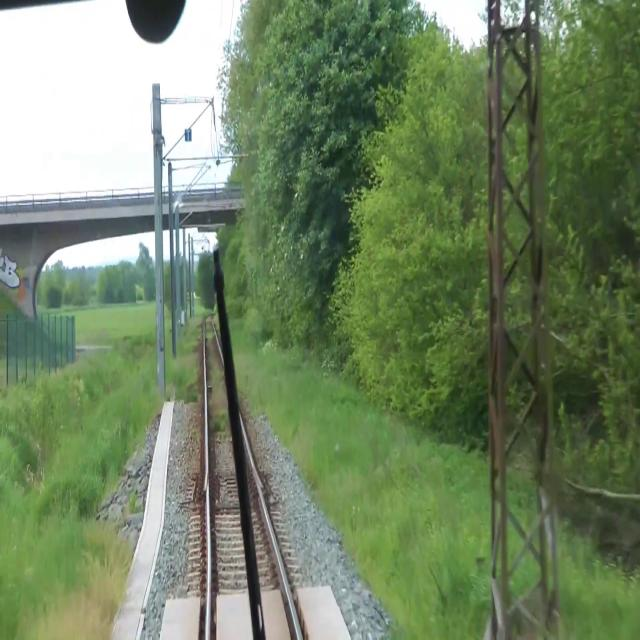rail-track: (205, 310, 243, 639), (274, 551, 297, 639)
